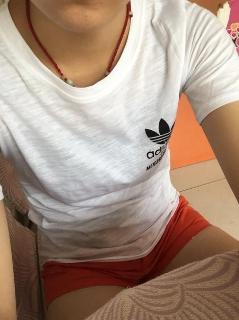shorts: (41, 187, 213, 307)
